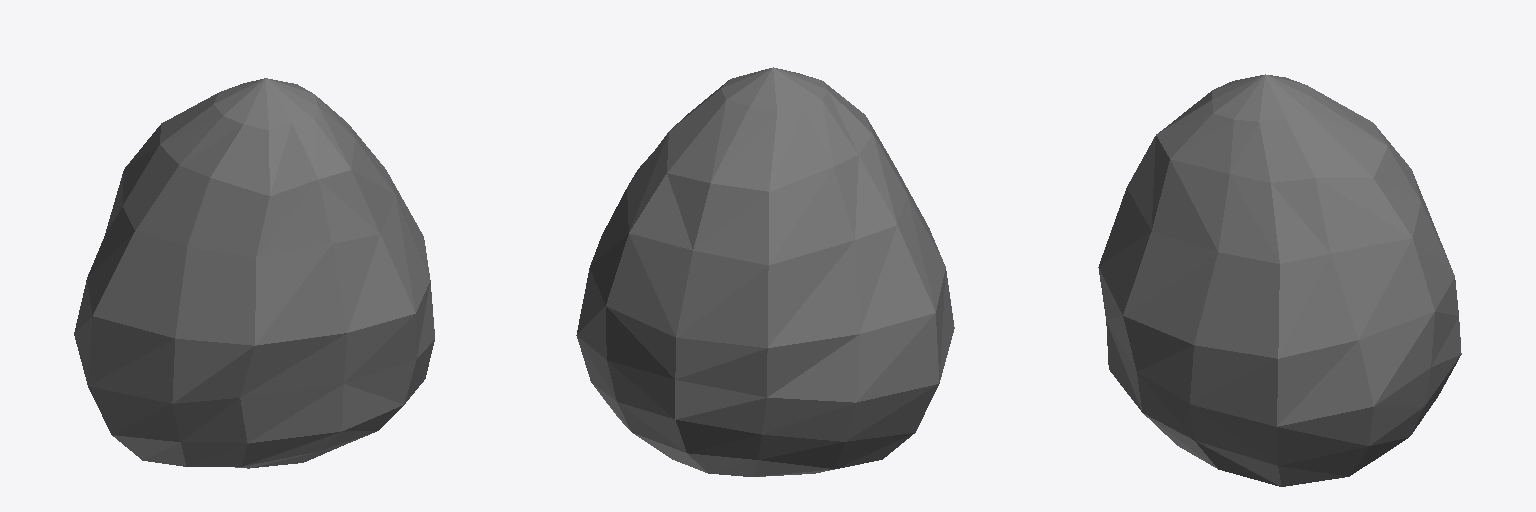
Rendered from BoomerEgg.obj.
The picture shows the model from 3 angles: view 1: azimuth 30°, elevation 25°; view 2: azimuth 150°, elevation 25°; view 3: azimuth 270°, elevation 25°; orthographic projection.
Visible parts, largest first — view 1: BoomerEgg; view 2: BoomerEgg; view 3: BoomerEgg.
Part boxes in pixels (x1,y1,x2,y2): BoomerEgg: (74,78,434,468); BoomerEgg: (576,67,954,476); BoomerEgg: (1098,74,1461,486).
Bounding box in the file's own units: 51.7 × 53.15 × 47.88.